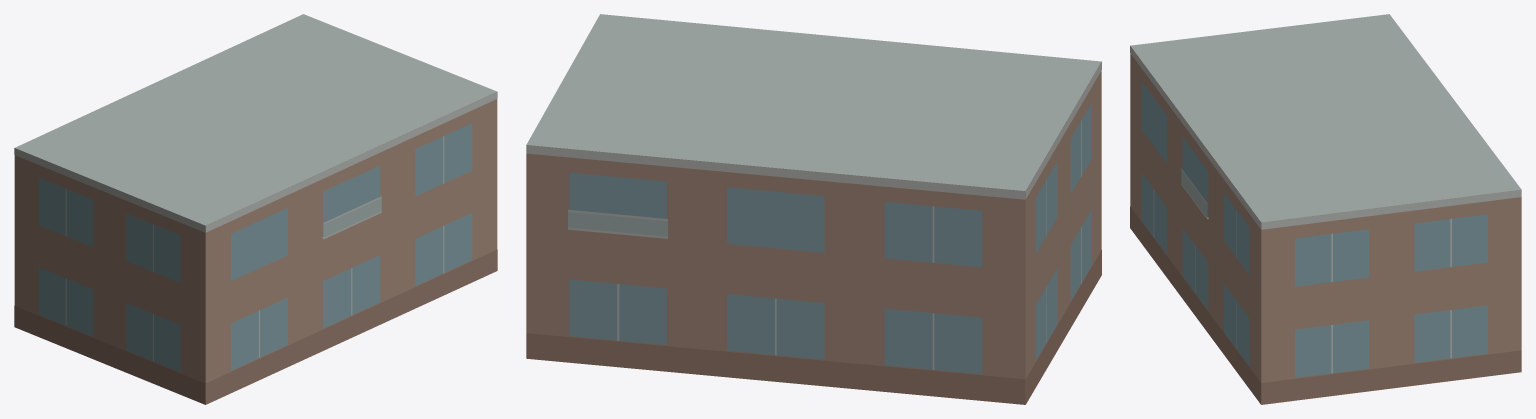
Rendered from survey-upis-32857074.glb.
3 renders of one model, left to right at view 1: azimuth 30°, elevation 25°; view 2: azimuth 150°, elevation 25°; view 3: azimuth 270°, elevation 25°, orthographic. The views are drawn at different scales.
Parts seen in each view (by area): view 1: survey-upis-32857074.tmp; view 2: survey-upis-32857074.tmp; view 3: survey-upis-32857074.tmp.
Boxes of the visible parts, box(x1,y1,x2,y2) form: survey-upis-32857074.tmp: box(14, 14, 497, 404); survey-upis-32857074.tmp: box(526, 14, 1101, 404); survey-upis-32857074.tmp: box(1130, 14, 1521, 404).
Size of the model in its own units: 14.96 by 6.1 by 11.88.
